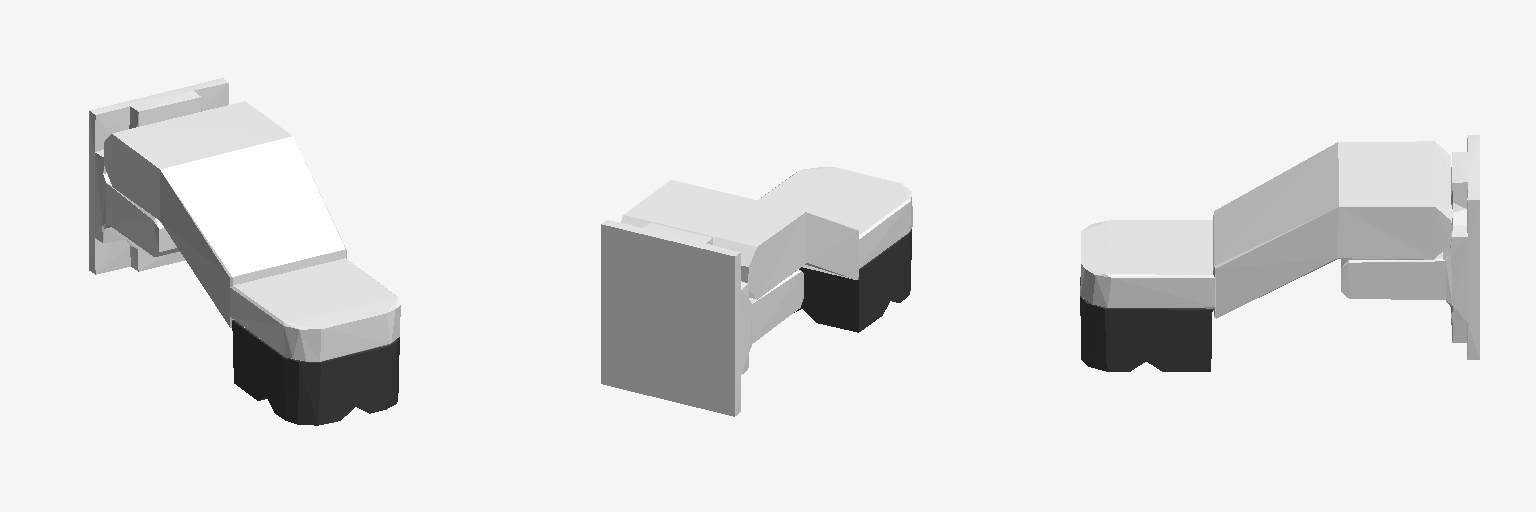
3 renders of one model, left to right at view 1: azimuth 30°, elevation 25°; view 2: azimuth 150°, elevation 25°; view 3: azimuth 270°, elevation 25°, orthographic.
Size of the model in its own units: 0.021 by 0.0264 by 0.0538.
Materials: 1 (1 with a texture image).